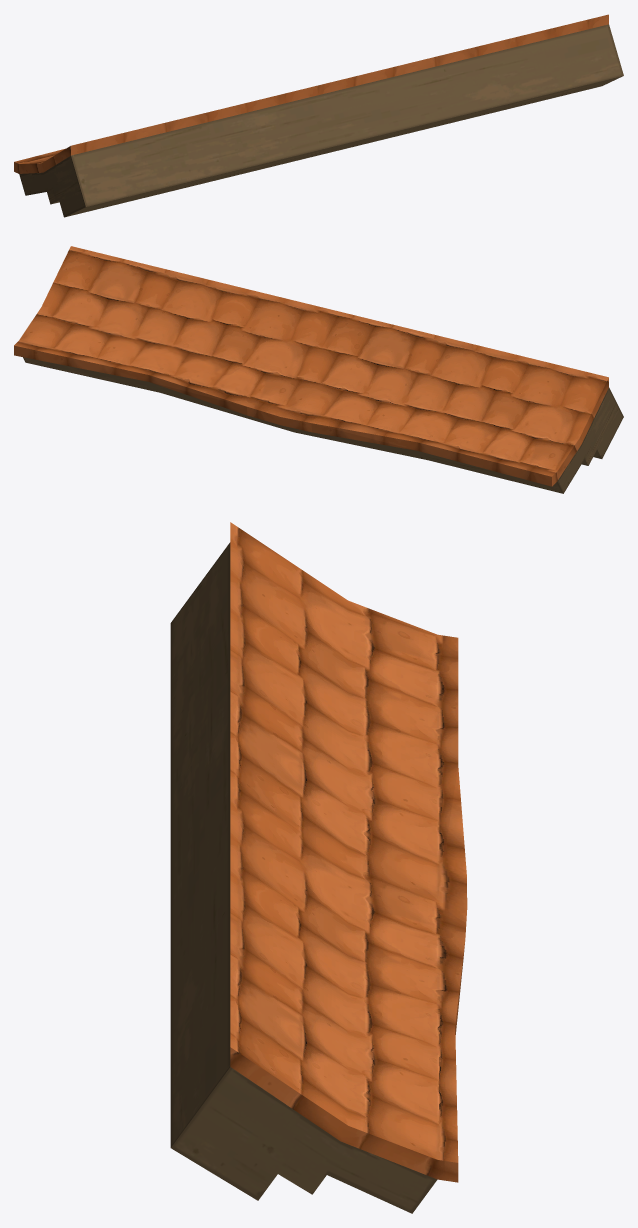
Rendered from SM_building_roof_09.glb.
3 views of the same model, one above another, from view 1: azimuth 30°, elevation 25°; view 2: azimuth 150°, elevation 25°; view 3: azimuth 270°, elevation 25° (orthographic). The views are drawn at different scales.
Parts seen in each view (by area): view 1: SM_building_roof_09; view 2: SM_building_roof_09; view 3: SM_building_roof_09.
Part boxes in pixels (box(x1,y1,x2,y2)): SM_building_roof_09: box(14, 14, 623, 217); SM_building_roof_09: box(14, 246, 623, 493); SM_building_roof_09: box(170, 522, 467, 1213).
Size of the model in its own units: 6 by 0.9327 by 1.43.
Materials: 2 (2 with a texture image).
